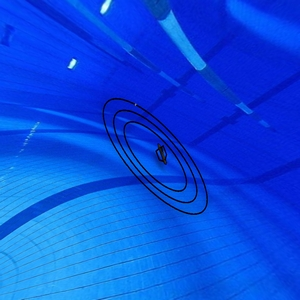circle: (100, 95, 218, 225)
submarine: (153, 141, 175, 170)
